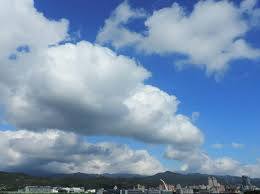Cumulus: (3, 39, 213, 146), (2, 129, 158, 173)
